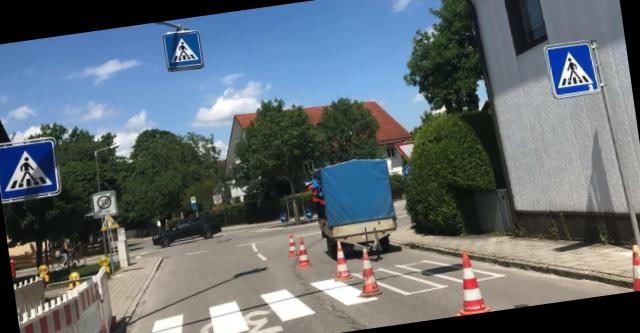crosswalk-sign: (1, 136, 64, 203), (544, 39, 602, 100), (162, 28, 205, 73)
